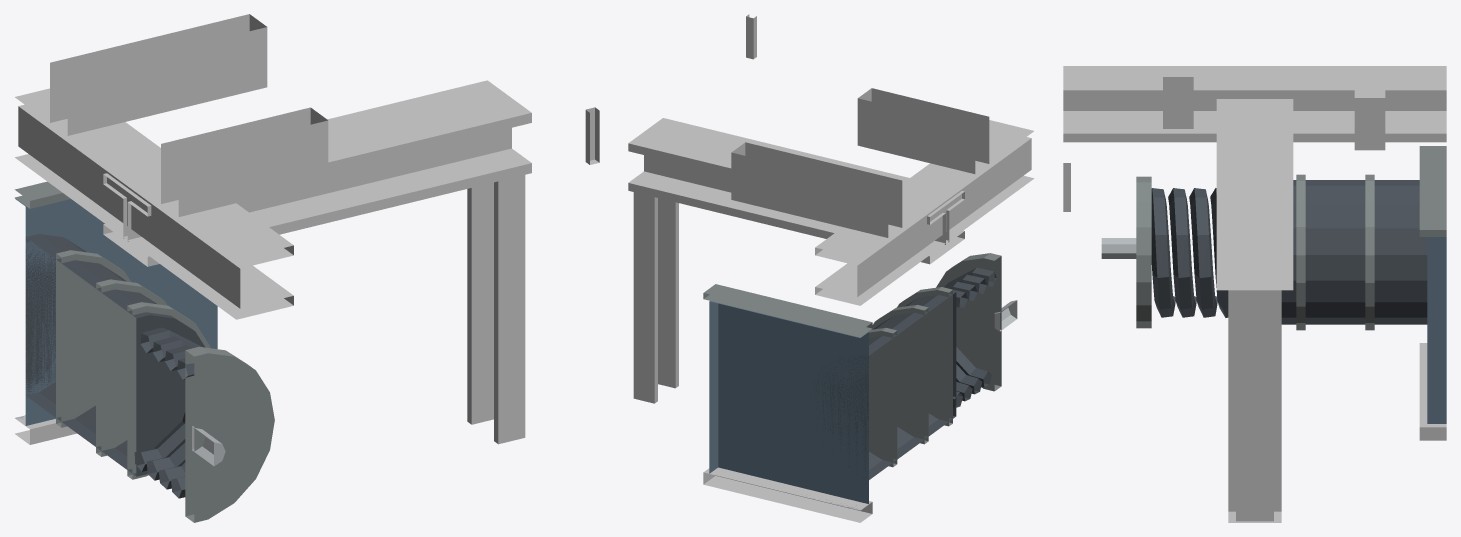
Rendered from cell_15.obj.
The picture shows the model from 3 angles, left to right: view 1: azimuth 30°, elevation 25°; view 2: azimuth 150°, elevation 25°; view 3: azimuth 270°, elevation 25°; orthographic projection. The views are drawn at different scales.
Bounding box in the file's own units: 1 × 1 × 1.
